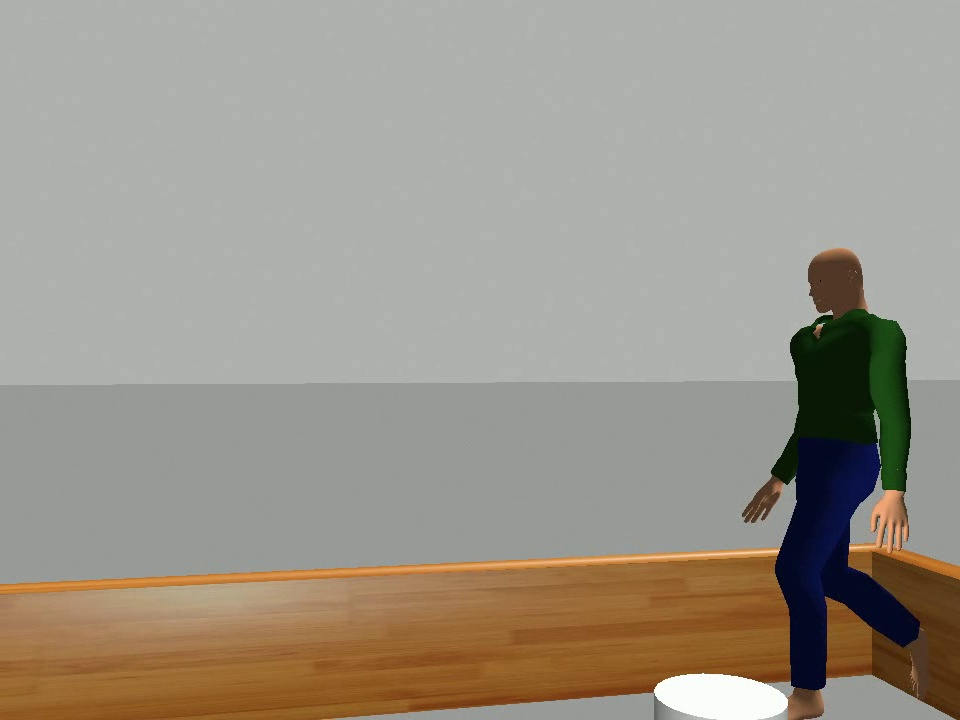person: (738, 244, 940, 720)
